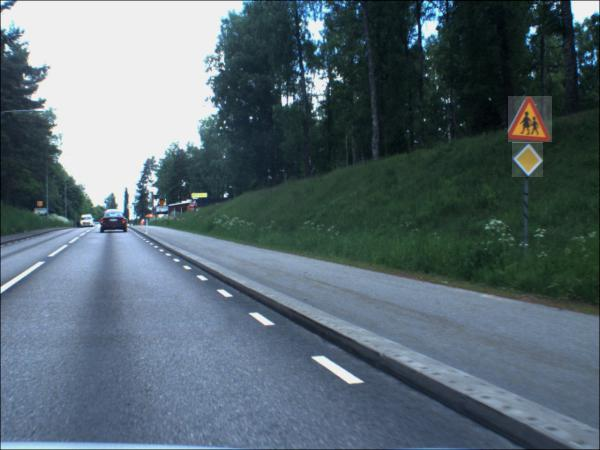50_SIGN: (161, 200, 167, 207), (38, 203, 45, 209)
PRIORITY_ROAD: (513, 143, 545, 179)
WARNING: (509, 97, 554, 144)
